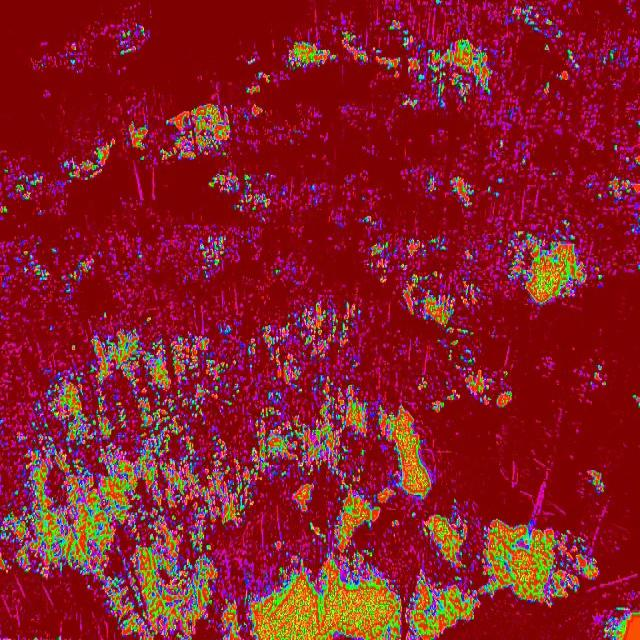fire: (0, 286, 431, 640), (431, 508, 601, 596), (374, 14, 497, 125), (426, 290, 516, 420), (509, 226, 601, 304), (512, 0, 583, 78), (164, 102, 234, 168), (368, 236, 446, 286), (282, 28, 370, 72), (15, 240, 93, 286), (208, 170, 276, 214), (432, 595, 491, 640), (69, 134, 118, 182), (0, 166, 44, 218), (189, 231, 232, 277), (113, 19, 152, 63), (120, 115, 150, 165), (600, 610, 640, 640), (607, 177, 640, 206), (448, 175, 475, 210)
